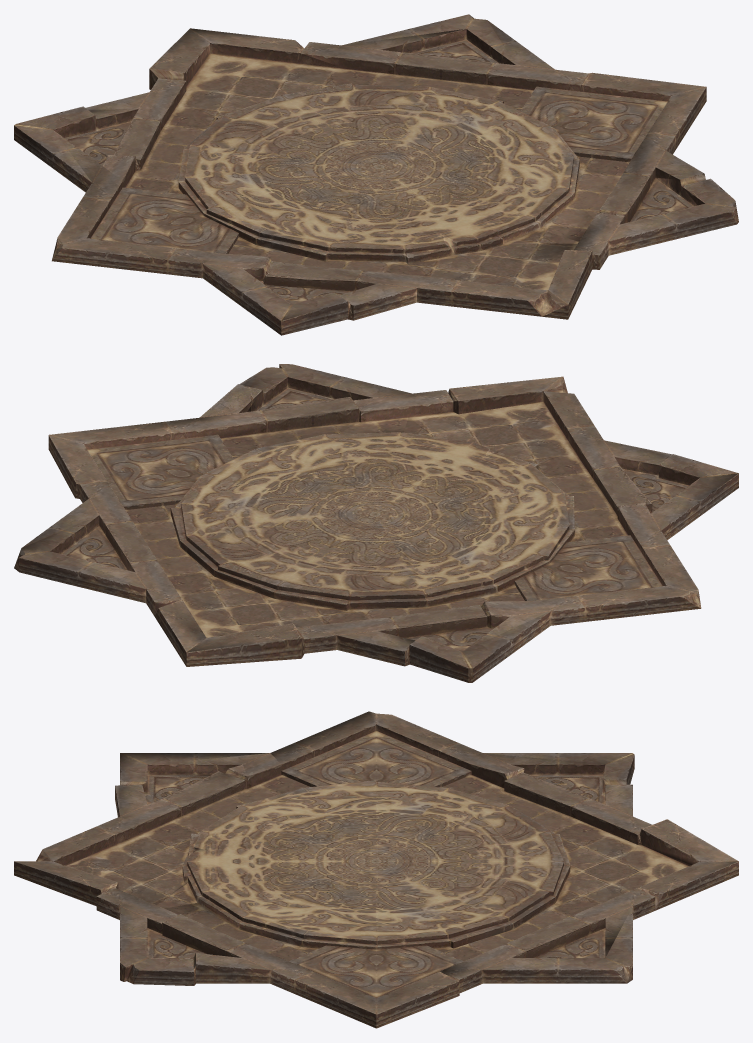
Rendered from Scene_Build_TaZiShaMo_ChuShengDian_1.FBX.
3 renders of one model, top to bottom at view 1: azimuth 30°, elevation 25°; view 2: azimuth 150°, elevation 25°; view 3: azimuth 270°, elevation 25°, orthographic. The views are drawn at different scales.
Visible parts, largest first — view 1: Scene_Build_TaZiShaMo_ChuShengDian_1; view 2: Scene_Build_TaZiShaMo_ChuShengDian_1; view 3: Scene_Build_TaZiShaMo_ChuShengDian_1.
Boxes of the visible parts, x1=… form: Scene_Build_TaZiShaMo_ChuShengDian_1: x1=14, y1=14, x2=738, y2=335; Scene_Build_TaZiShaMo_ChuShengDian_1: x1=14, y1=364, x2=738, y2=682; Scene_Build_TaZiShaMo_ChuShengDian_1: x1=14, y1=711, x2=738, y2=1028.
Size of the model in its own units: 2261 by 68.11 by 2262.
1 material, 1 textured.
